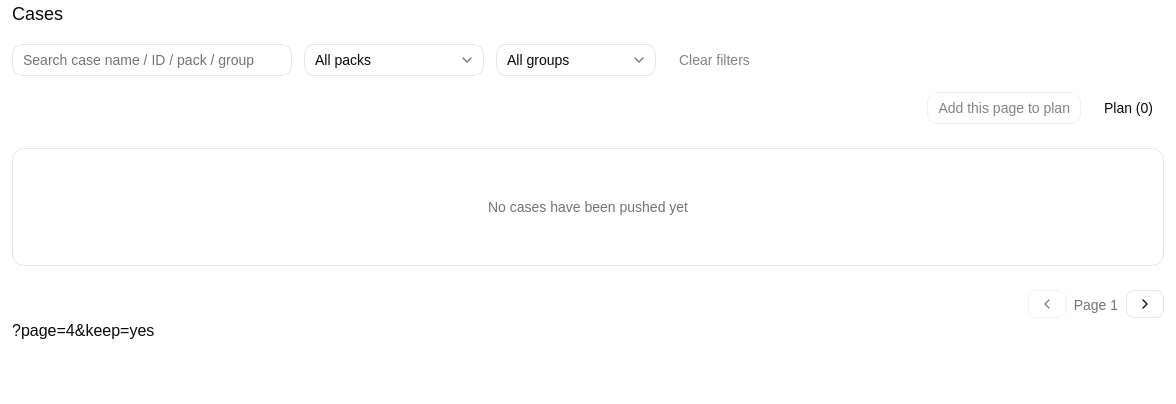
Test case: resets the page when cases group changes
Check: the text "No cases have been pushed yet" is shown, box [488, 197, 688, 217]
Step 1. Click the 2nd button named "Next" → point(1145, 304), box [1126, 290, 1164, 318]
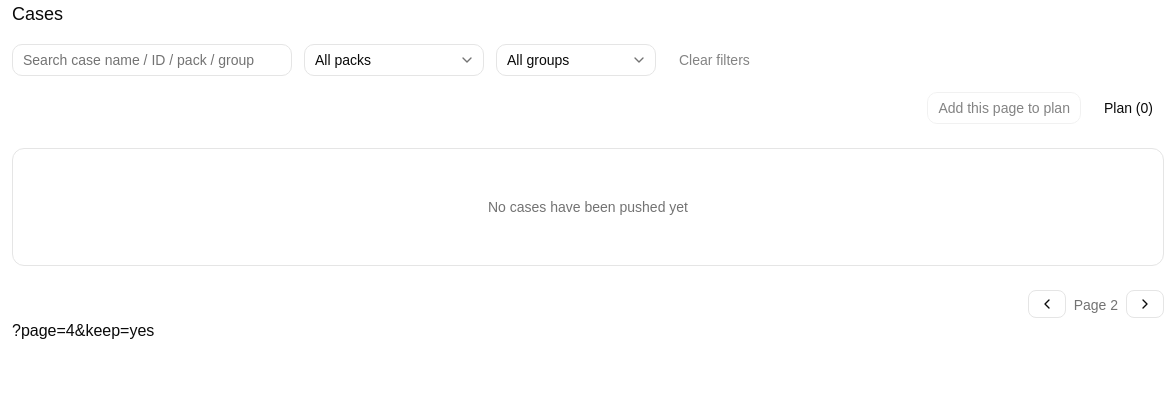
Check: the text with test id "location" reads "?page=4&keep=yes", box [12, 322, 154, 339]
Step 2. Click the dropdown labelled "group" → point(576, 60), box [496, 44, 656, 76]
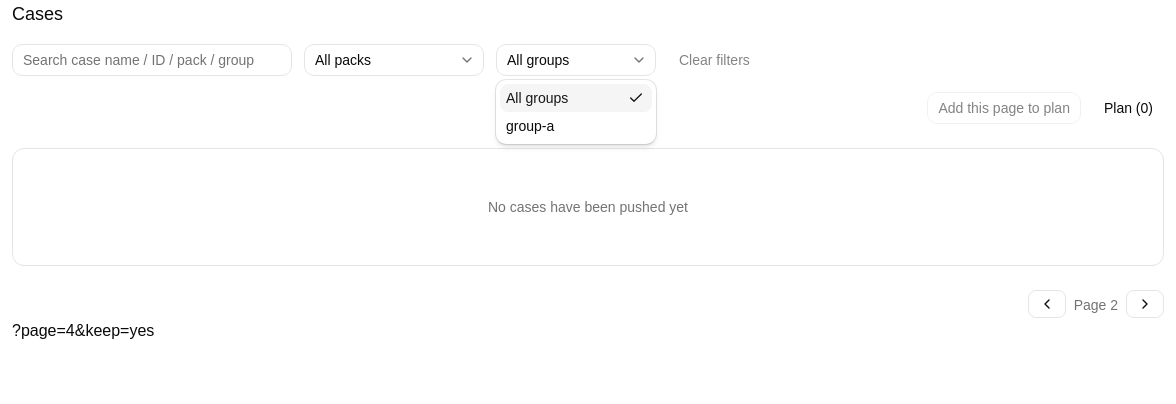
Step 3. Click the option "group-a" → point(530, 126), box [506, 118, 554, 134]
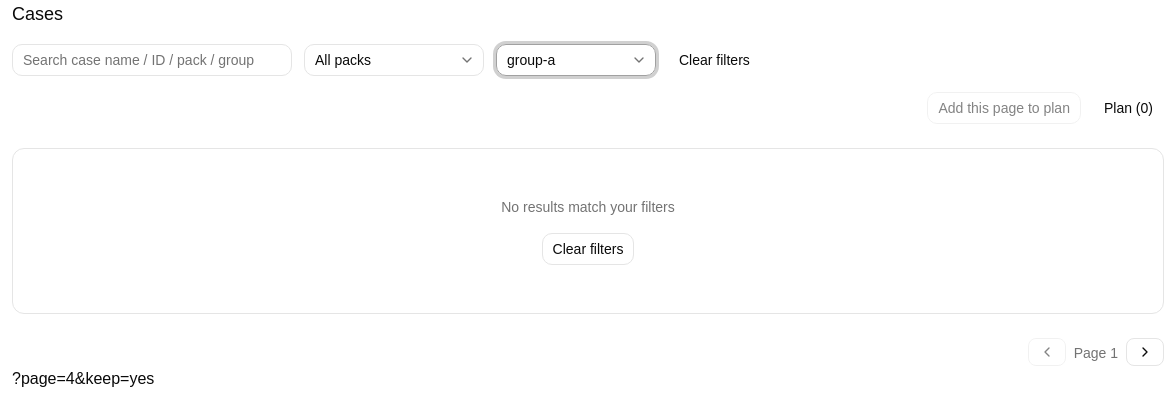
Check: the text with test id "location" reads "?page=4&keep=yes", box [12, 370, 154, 387]
Check: the text "No results match your filters" is shown, box [501, 197, 675, 217]
